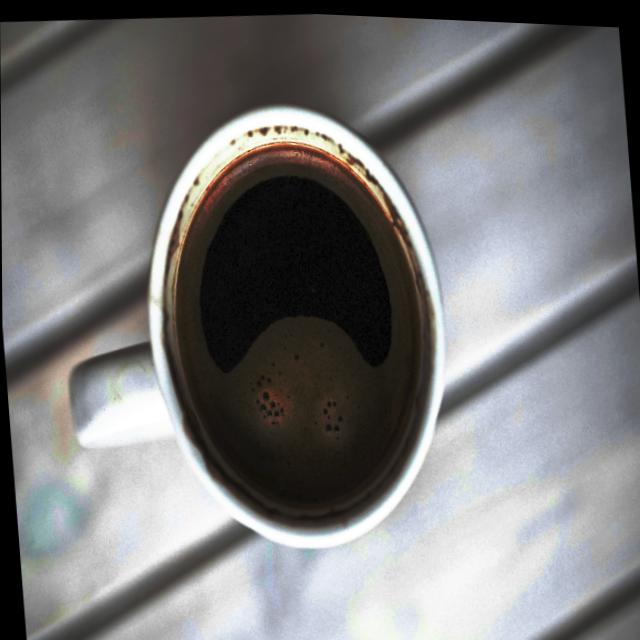drink: (59, 91, 440, 544)
